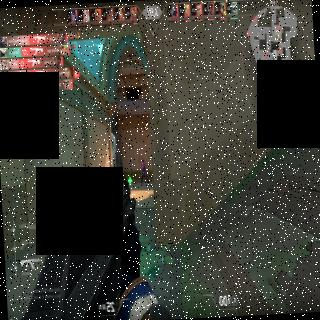ENEMY-BODY: (140, 158, 148, 186)
ENEMY-HEAD: (142, 159, 144, 165)
